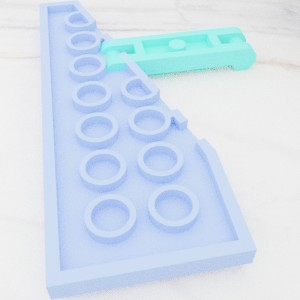lego: (39, 0, 257, 299), (98, 26, 256, 85)
